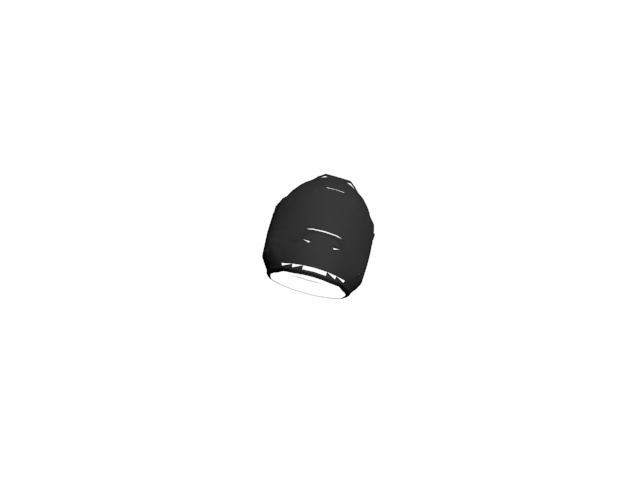bike_helmet: (257, 169, 376, 304)
